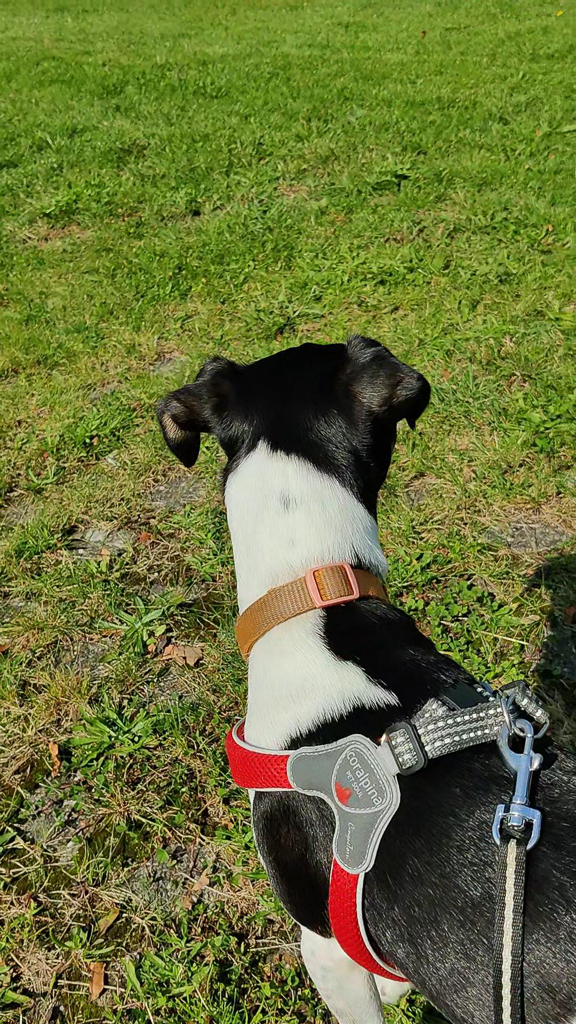Dog: (140, 314, 576, 1024)
